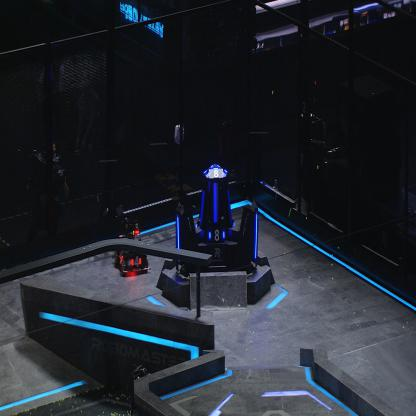car: (113, 217, 150, 274)
